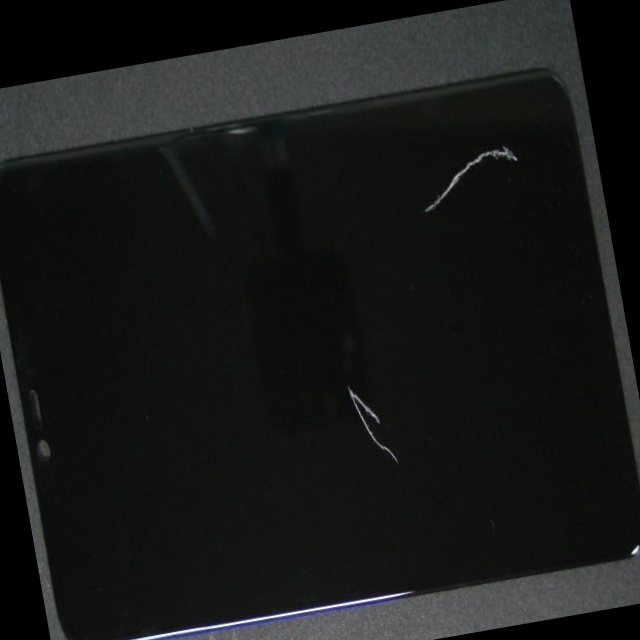scratch: (219, 265, 607, 640), (263, 9, 603, 245)
